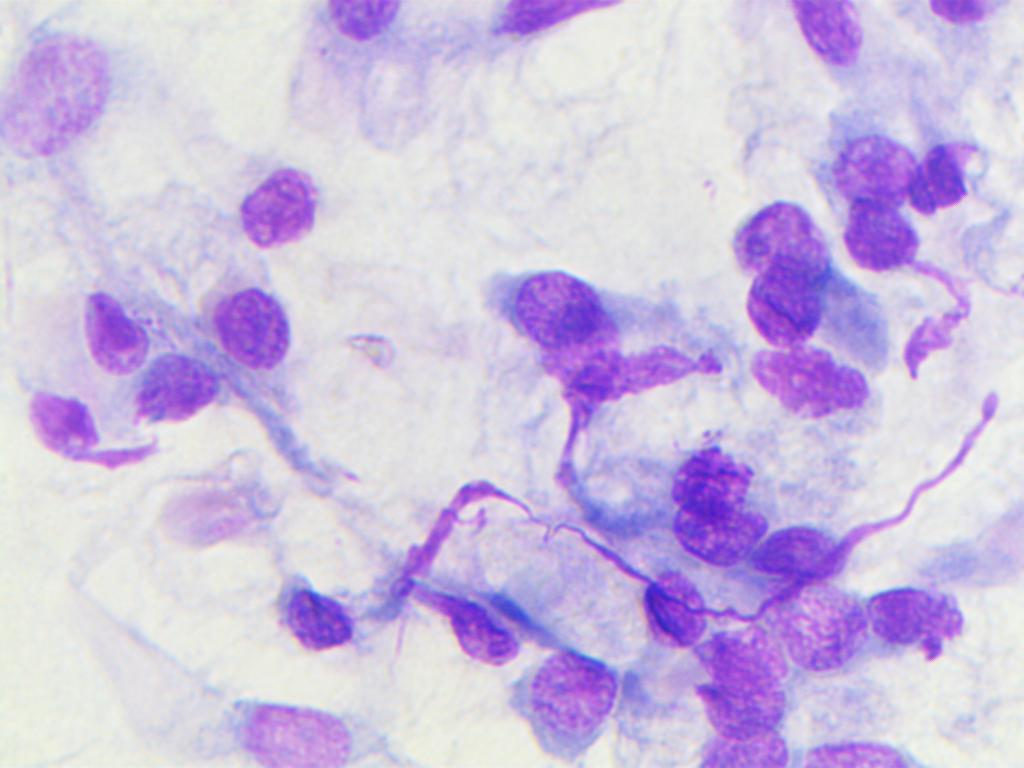artifact: (380, 454, 540, 589), (21, 387, 166, 481), (895, 260, 988, 374), (471, 0, 659, 41)
epithelial: (157, 651, 398, 768), (4, 31, 140, 186), (489, 258, 648, 360), (745, 334, 870, 420), (764, 578, 875, 672), (714, 197, 835, 281), (645, 437, 776, 514), (819, 124, 920, 219), (236, 151, 326, 252), (266, 557, 356, 657), (733, 258, 827, 349), (904, 124, 998, 212), (210, 280, 297, 374), (657, 499, 768, 568), (793, 0, 886, 80), (843, 194, 922, 286), (623, 571, 707, 656), (696, 624, 799, 693), (130, 349, 217, 429), (743, 521, 853, 584), (690, 681, 809, 737), (81, 272, 148, 366), (906, 0, 1013, 48), (680, 725, 797, 768), (312, 0, 416, 48), (797, 734, 913, 768)
goblet_cell: (383, 573, 533, 671), (860, 548, 977, 672), (520, 642, 620, 762)
